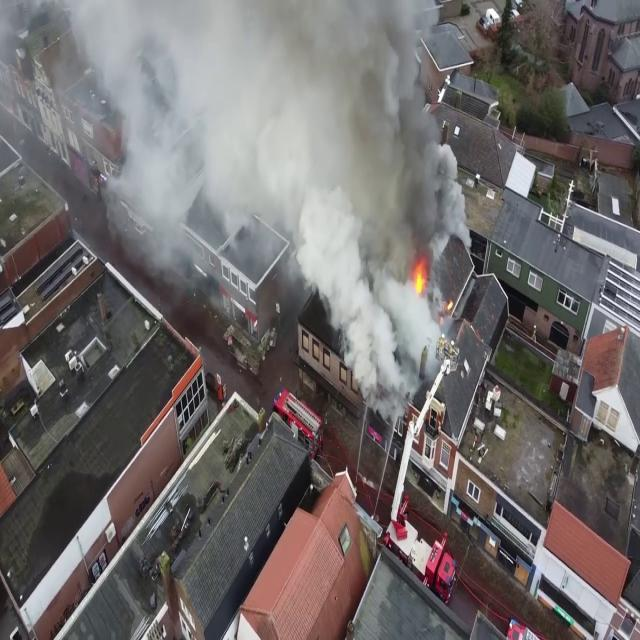Fire: (410, 251, 430, 300)
Smoke: (47, 0, 467, 261), (283, 2, 473, 384)
